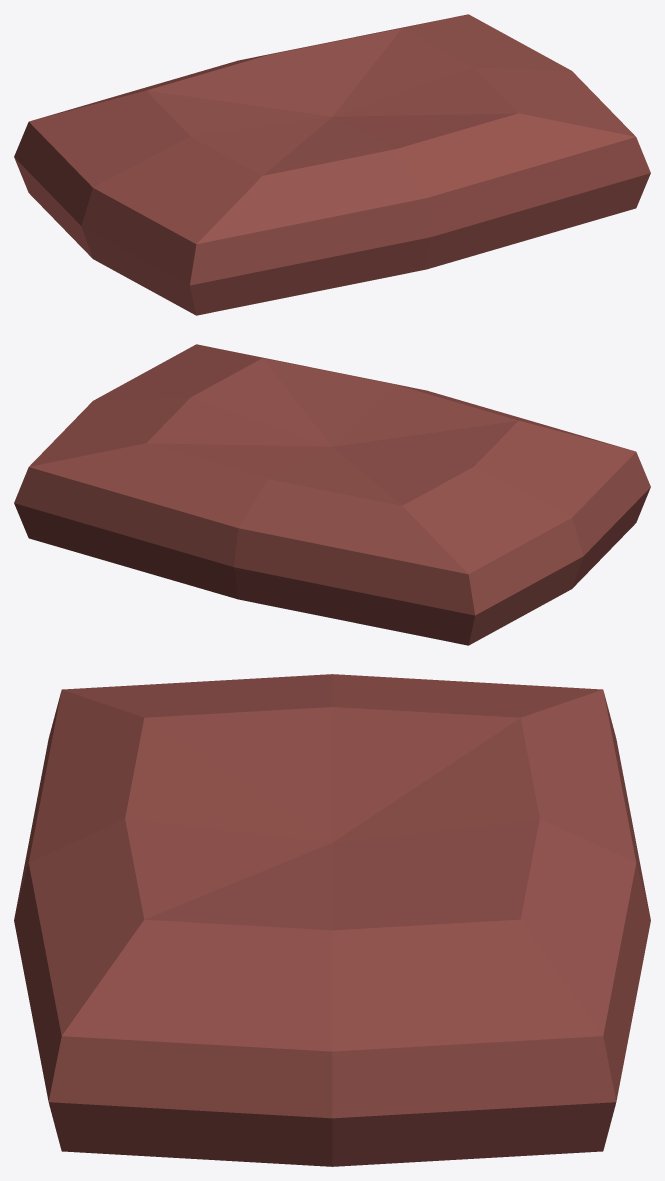
Rendered from Itr_Bed_Pillow_08.FBX.
3 renders of one model, top to bottom at view 1: azimuth 30°, elevation 25°; view 2: azimuth 150°, elevation 25°; view 3: azimuth 270°, elevation 25°, orthographic. The views are drawn at different scales.
Parts seen in each view (by area): view 1: Itr_Bed_Pillow_08; view 2: Itr_Bed_Pillow_08; view 3: Itr_Bed_Pillow_08.
Boxes of the visible parts, left/top/right/bottom form: Itr_Bed_Pillow_08: left=14, top=14, right=650, bottom=315; Itr_Bed_Pillow_08: left=14, top=344, right=650, bottom=645; Itr_Bed_Pillow_08: left=14, top=674, right=650, bottom=1166.
Bounding box in the file's own units: 21.39 × 4.02 × 14.55.
